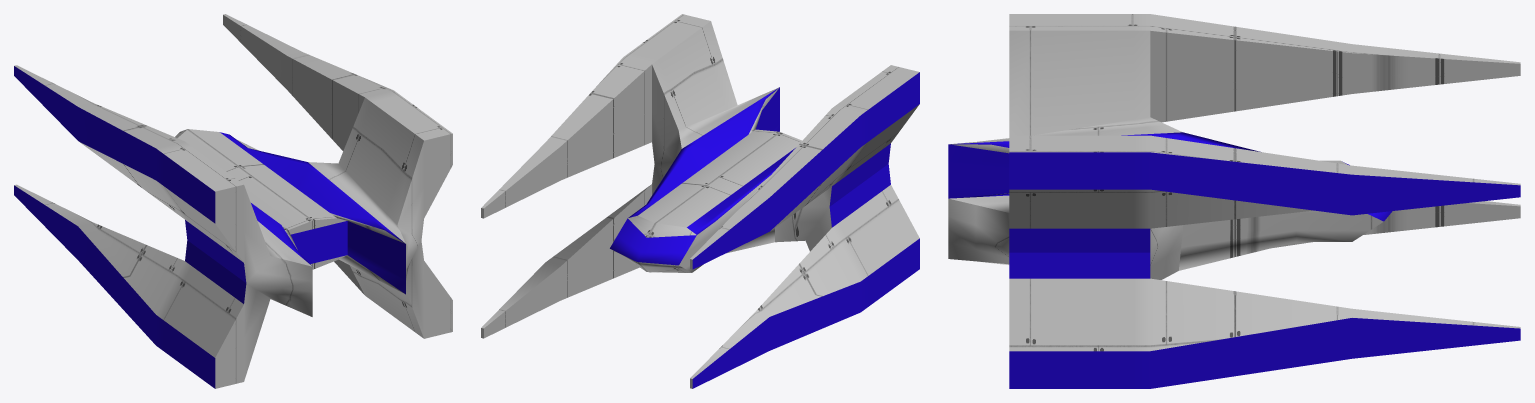
Rendered from Ship3.fbx.
3 views of the same model, side by side, from view 1: azimuth 30°, elevation 25°; view 2: azimuth 150°, elevation 25°; view 3: azimuth 270°, elevation 25° (orthographic). The views are drawn at different scales.
Visible parts, largest first — view 1: pCube2; view 2: pCube2; view 3: pCube2.
Boxes of the visible parts, box(x1,y1,x2,y2) form: pCube2: box(14, 14, 452, 388); pCube2: box(481, 14, 919, 388); pCube2: box(948, 14, 1520, 388).
Size of the model in its own units: 10.6 by 8.45 by 18.52.
